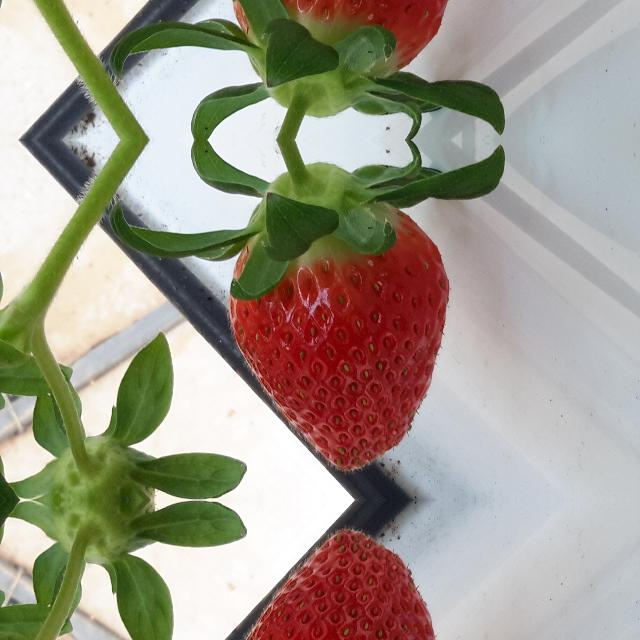Health_100: (228, 202, 452, 470), (228, 529, 451, 640), (228, 0, 451, 78)
